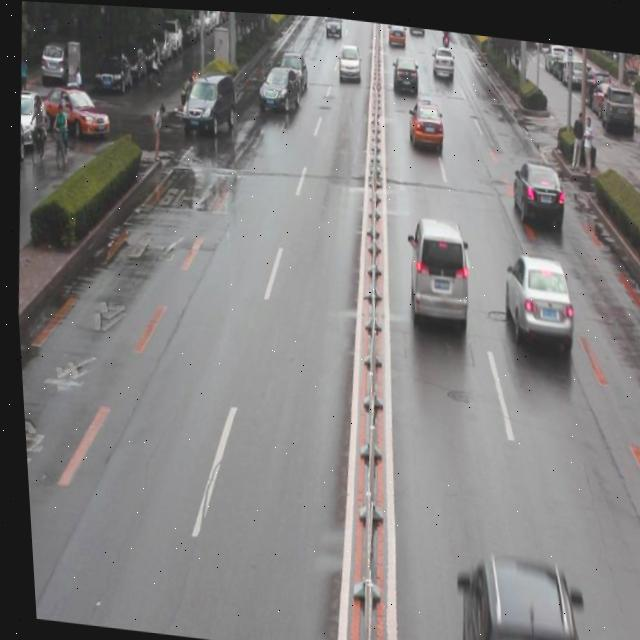car: (444, 542, 579, 640), (497, 247, 572, 353), (505, 149, 564, 222), (253, 59, 301, 111), (405, 93, 444, 149)
truck: (397, 211, 470, 326), (177, 68, 237, 136)
